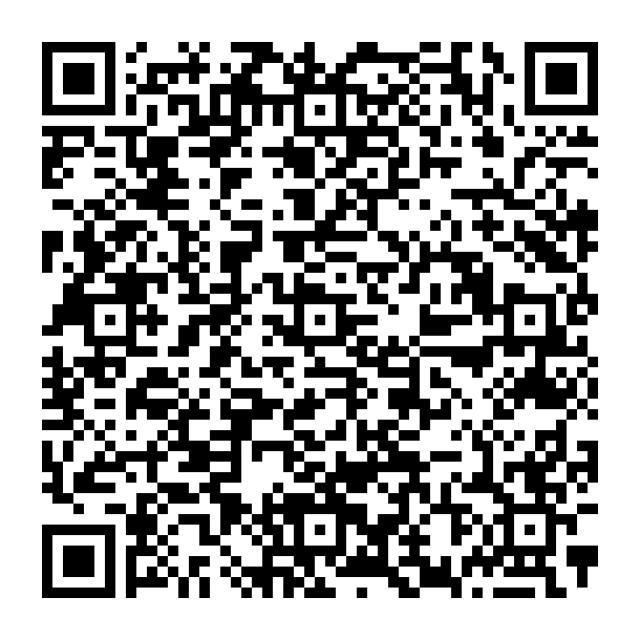QRCode: (1, 1, 640, 621)
